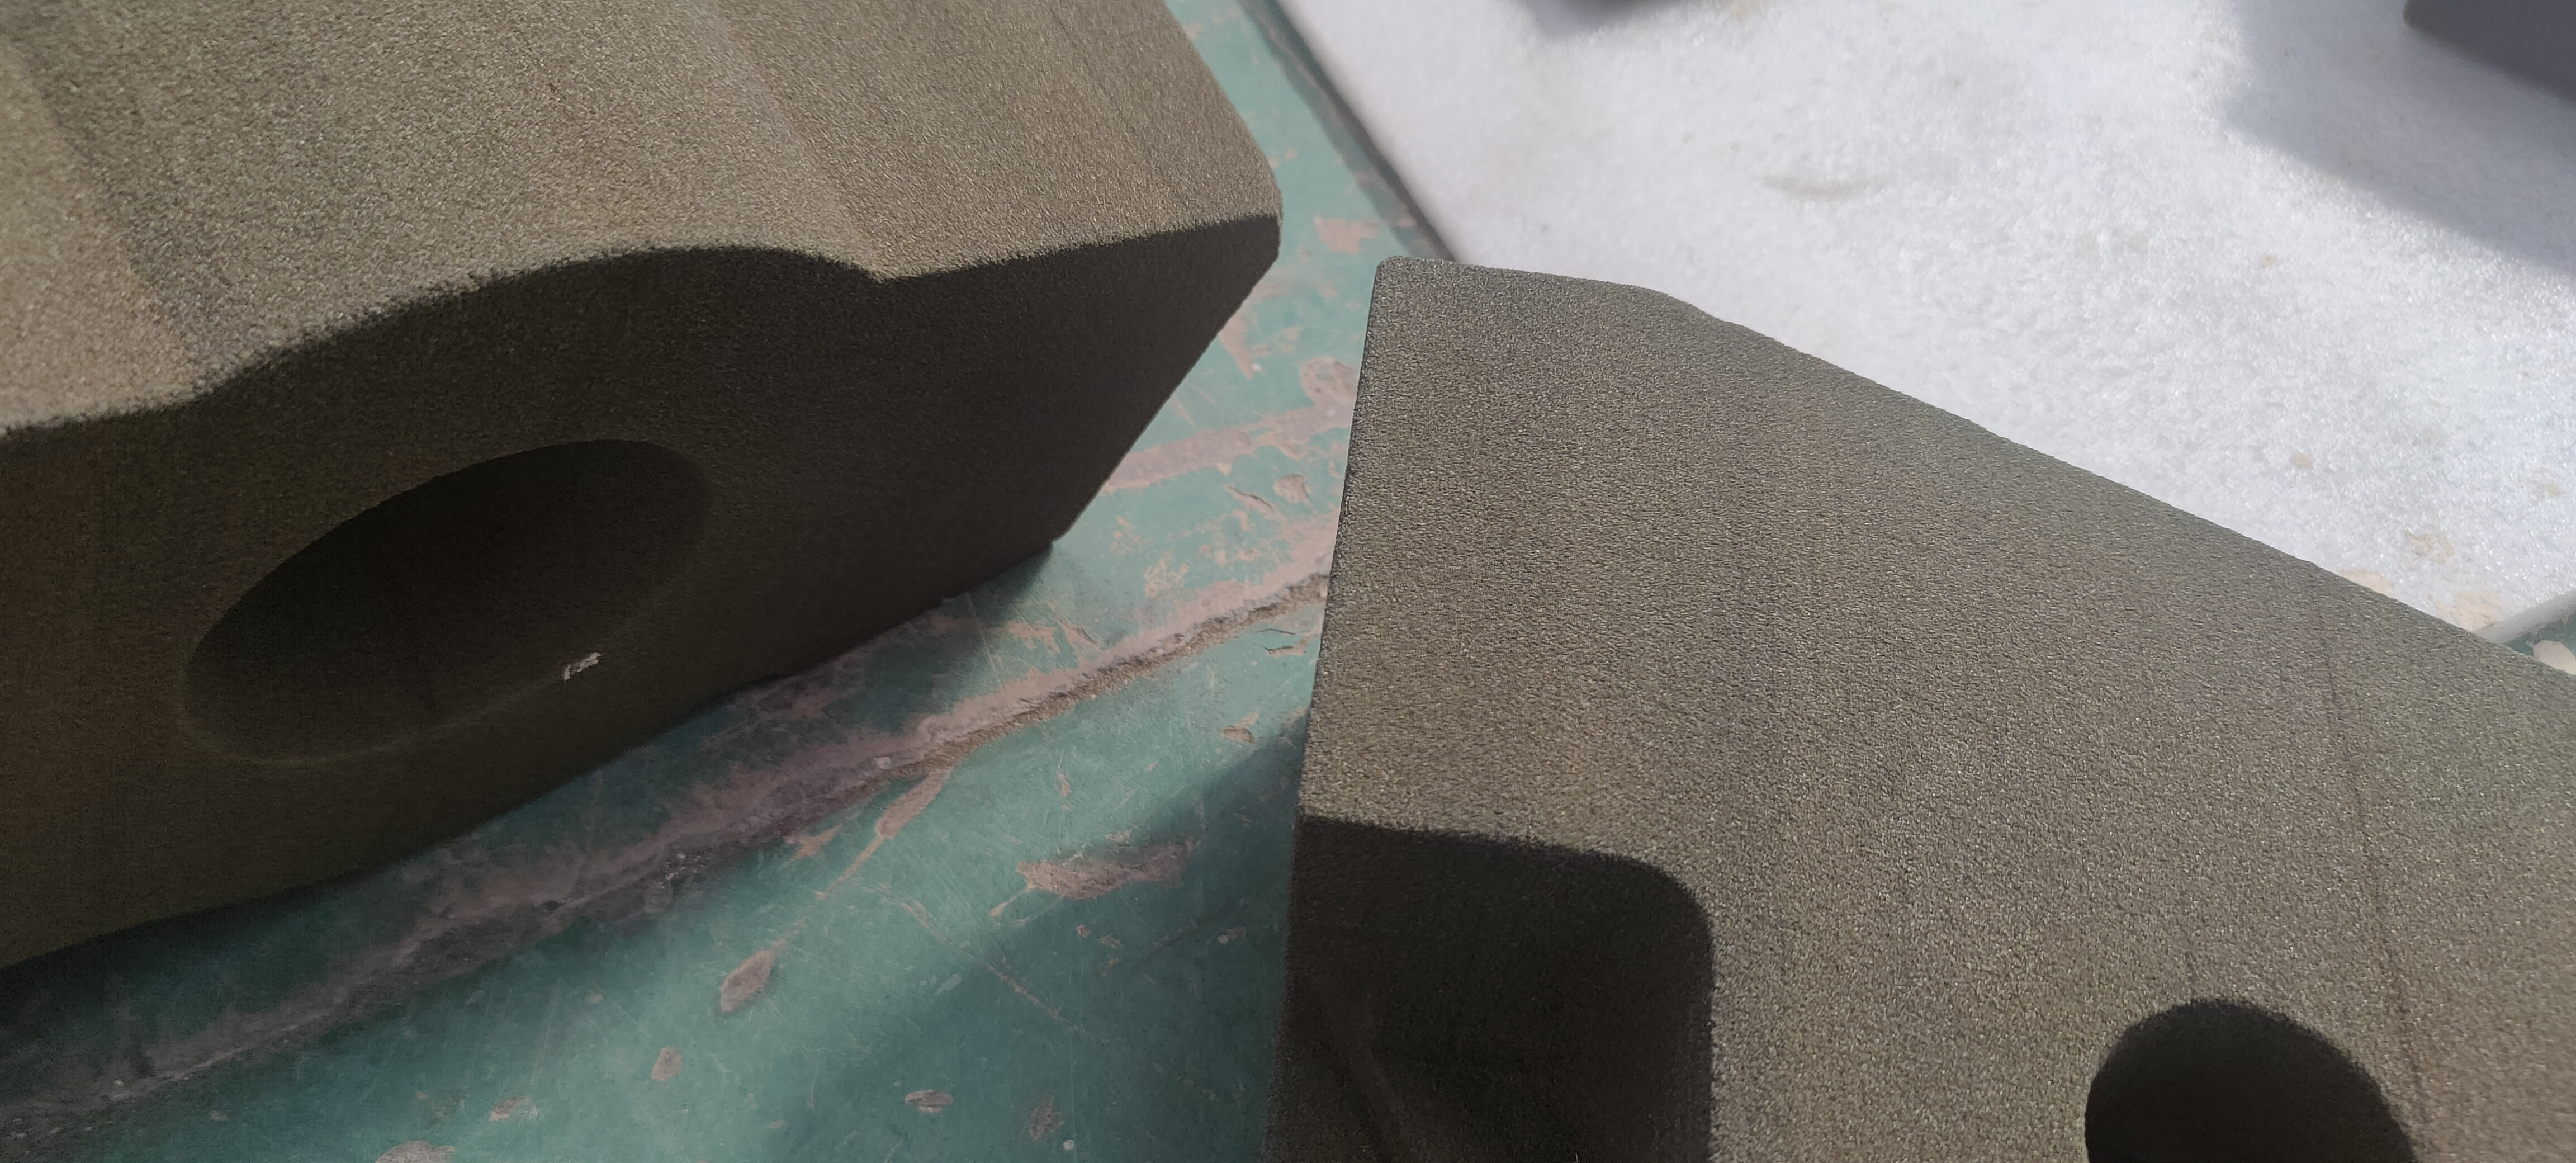pouring hole: (179, 439, 716, 764)
